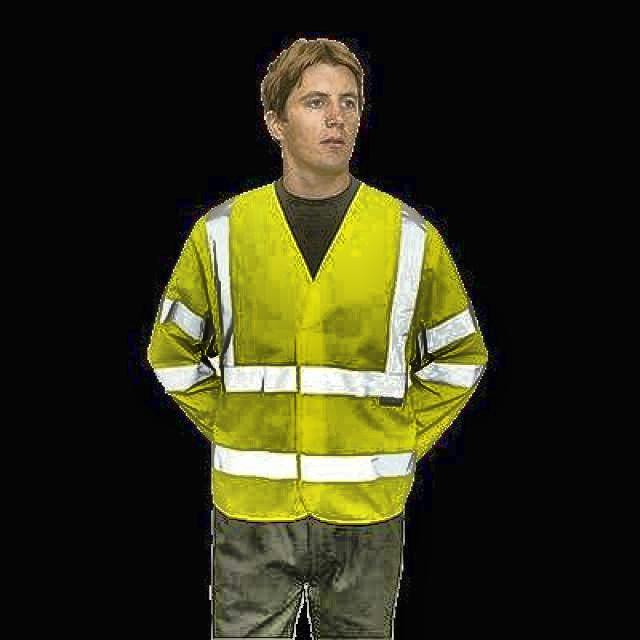safety_jacket: (138, 182, 473, 520)
